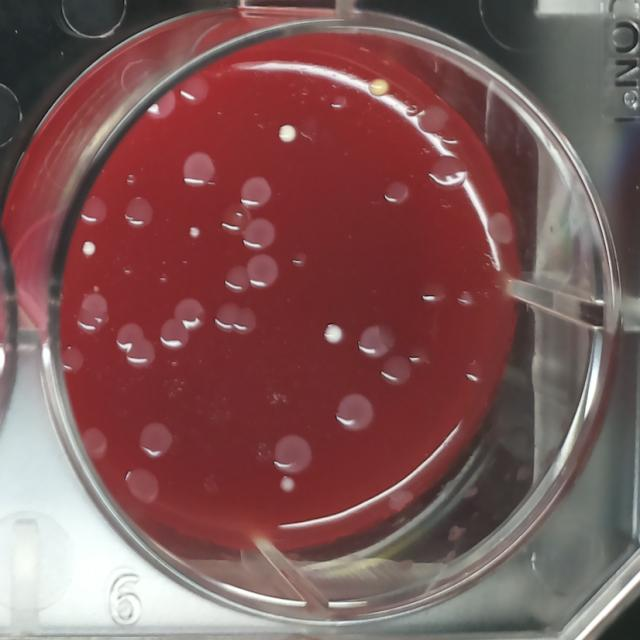Staphylococcus: (365, 74, 391, 101), (322, 321, 346, 347), (274, 122, 298, 147), (79, 237, 100, 259), (277, 474, 296, 495), (145, 99, 162, 118), (187, 224, 202, 241)
